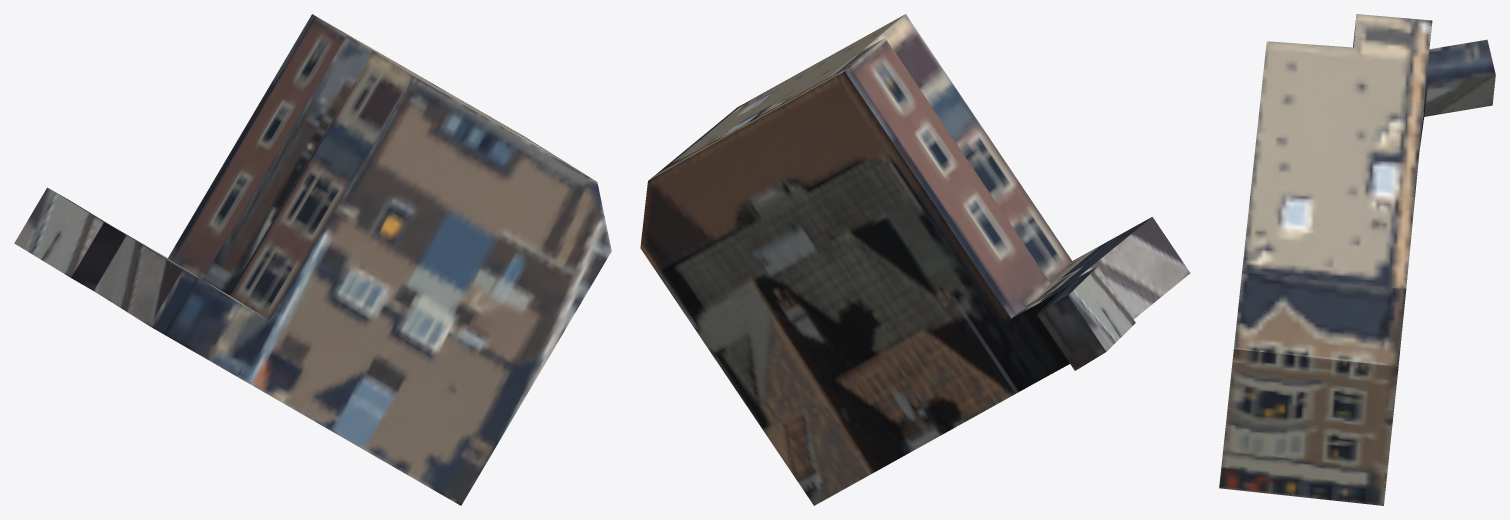
3 renders of one model, left to right at view 1: azimuth 30°, elevation 25°; view 2: azimuth 150°, elevation 25°; view 3: azimuth 270°, elevation 25°, orthographic. The views are drawn at different scales.
Parts seen in each view (by area): view 1: BAG_0599100000700986 (×5); view 2: BAG_0599100000700986 (×5); view 3: BAG_0599100000700986 (×3).
Part boxes in pixels (bbox=[...]): BAG_0599100000700986 (×5): bbox=[14, 14, 611, 505]; BAG_0599100000700986 (×5): bbox=[640, 14, 1190, 505]; BAG_0599100000700986 (×3): bbox=[1219, 14, 1495, 505].
Bounding box in the file's own units: 21.54 × 19.05 × 10.29.
Materials: 6 (6 with a texture image).
